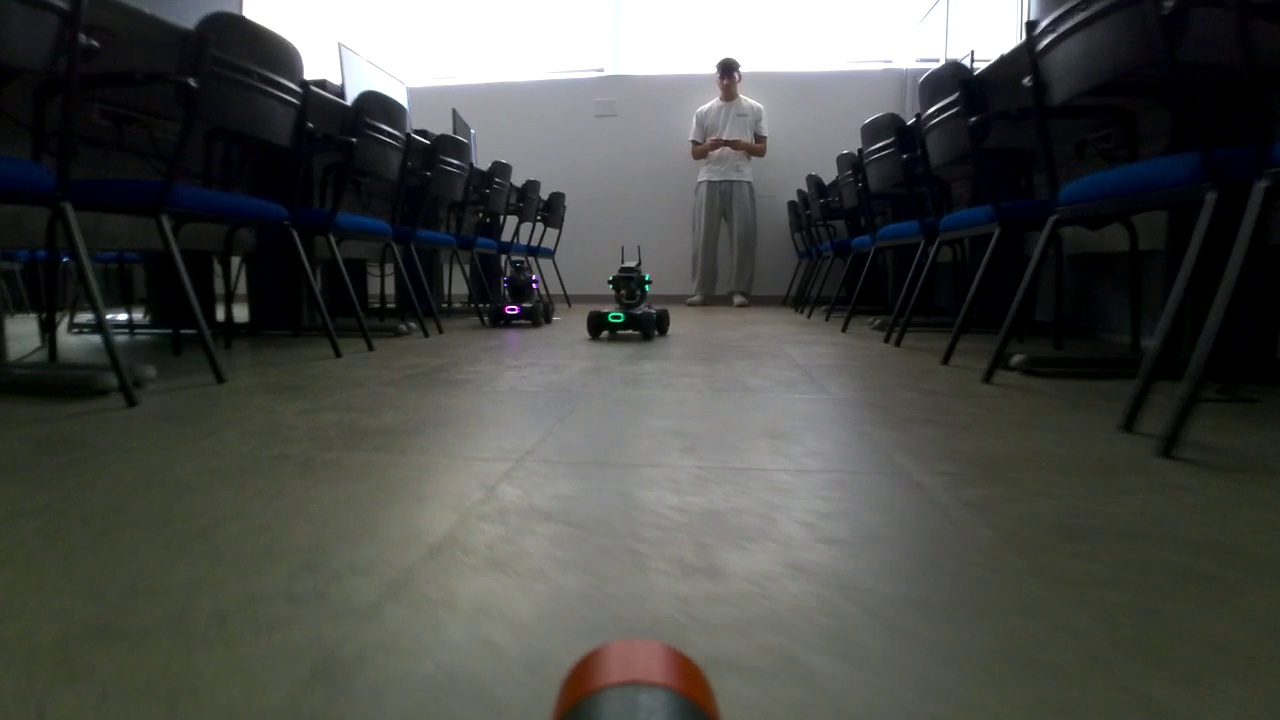robot: (584, 247, 669, 343), (490, 260, 556, 330)
